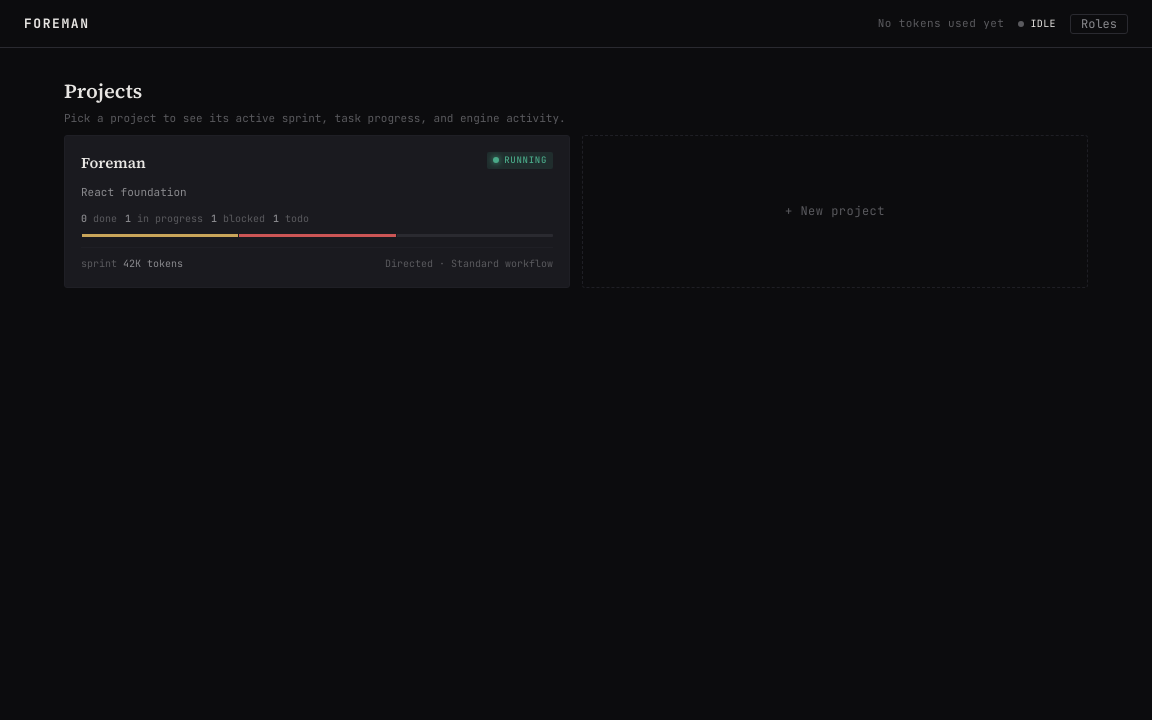
Test case: React dashboard foundation › renders the project overview and navigates to the sprint list
The width and height of the screenshot is (1152, 720).
Expected: the text "Projects" is shown, [64,77,142,105]
Step 1. Click the button with aria-label "Open project Foreman" → (113, 162), box [64,134,570,288]
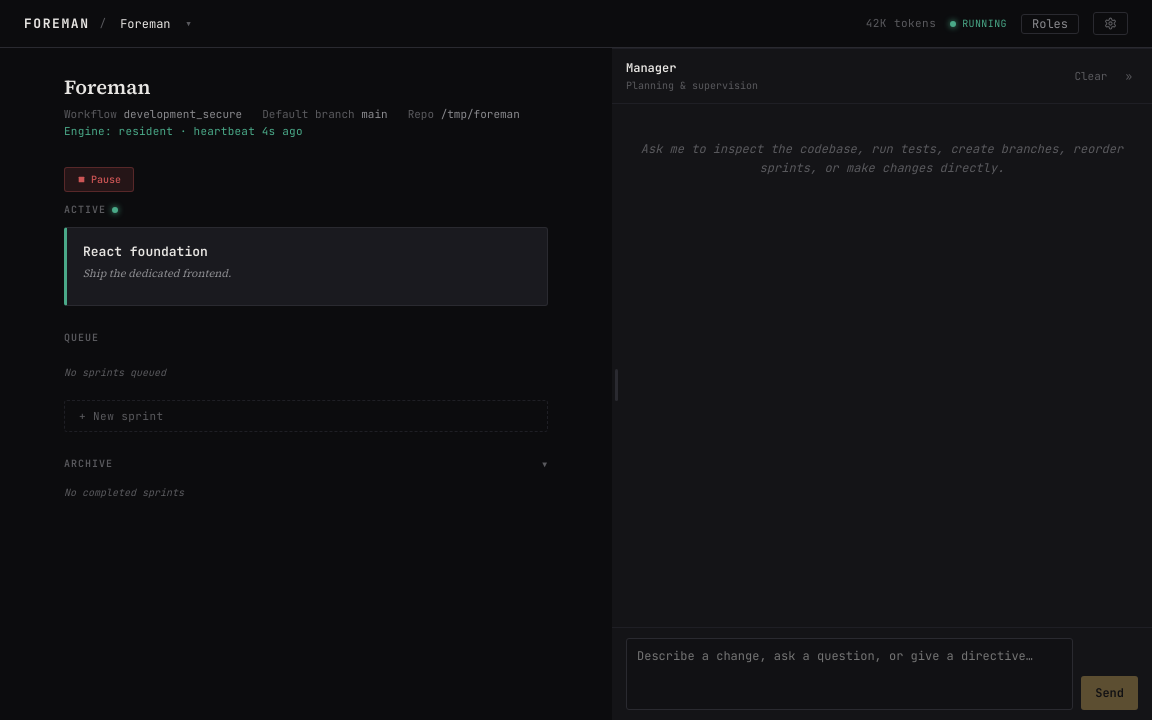
Expected: the text "React foundation" is shown, [83,243,208,260]
Expected: the text "Engine: resident · heartbeat 4s ago" is shown, [64,122,303,139]
Expected: the button with aria-label "Pause engine" is shown, [64,167,134,192]
